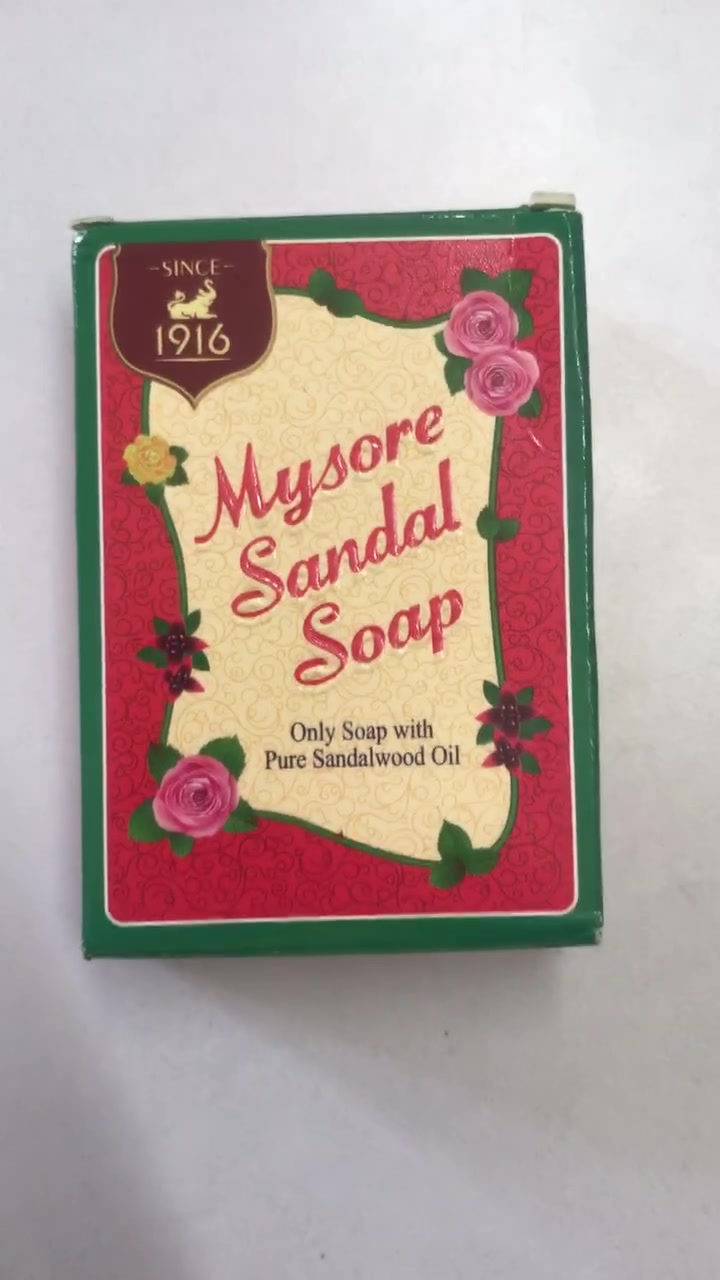mysore sandal soap: (76, 218, 603, 941)
